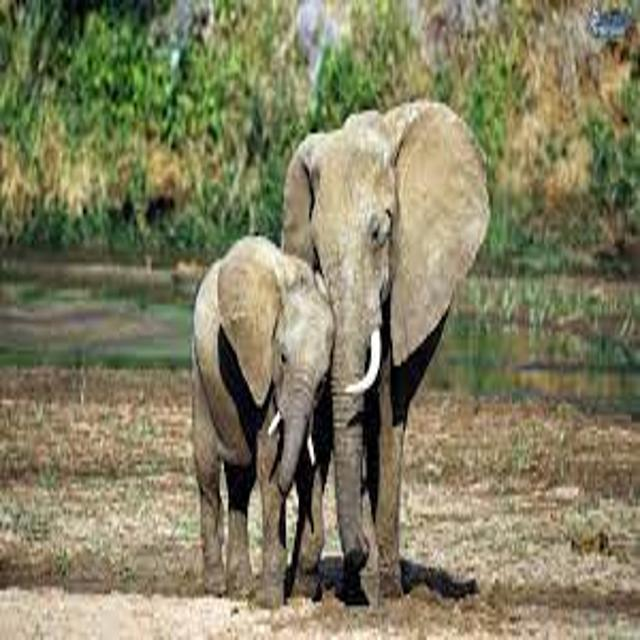elephant: (238, 80, 547, 633), (162, 202, 389, 631)
